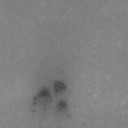iron sheet ash: (32, 88, 51, 106), (52, 80, 68, 96), (57, 100, 67, 112)
